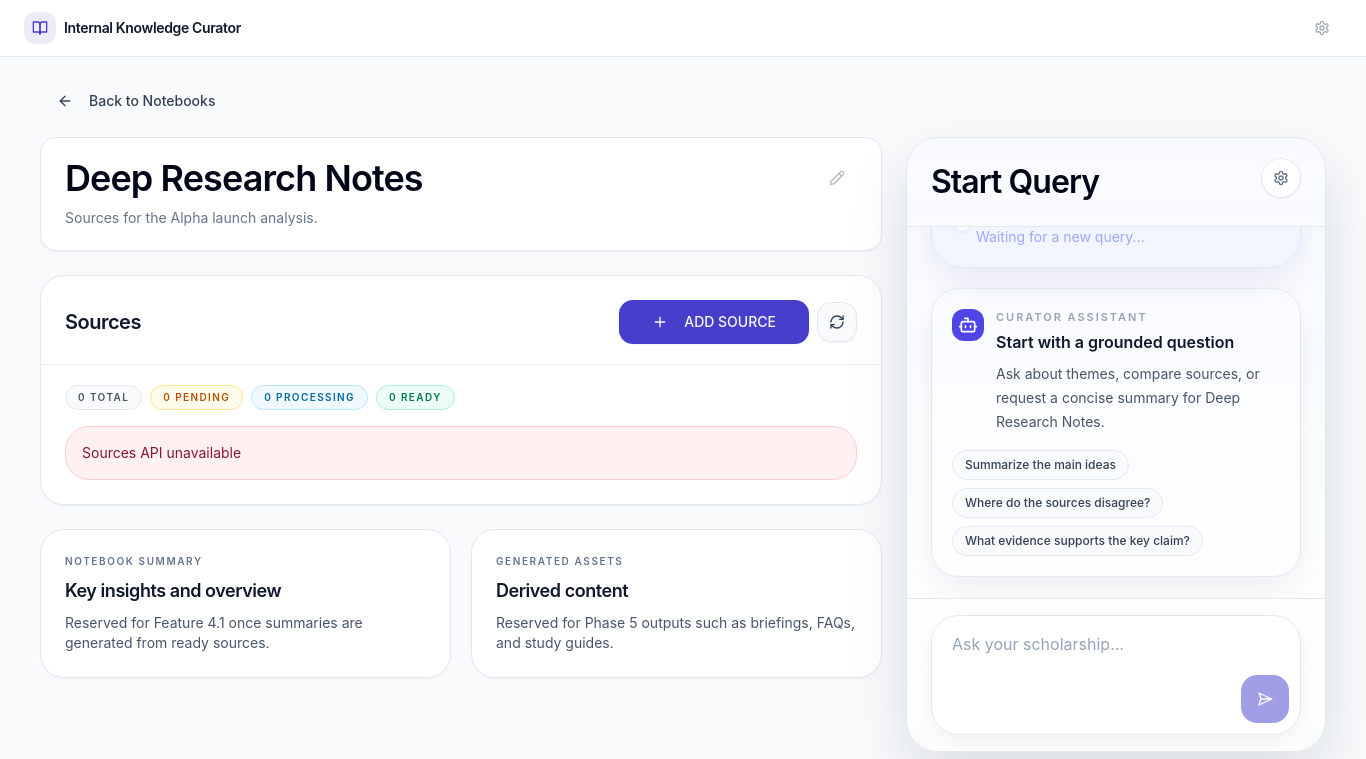
Test: NotebookDetailPage › shows a source loading error and retries in place
This screenshot has width=1366, height=759.
(page scrolled)
Expected: the text "Sources API unavailable" is shown, [65,426,857,480]
Click the button named "Refresh sources".
click(837, 322)  # box [817,302,857,342]
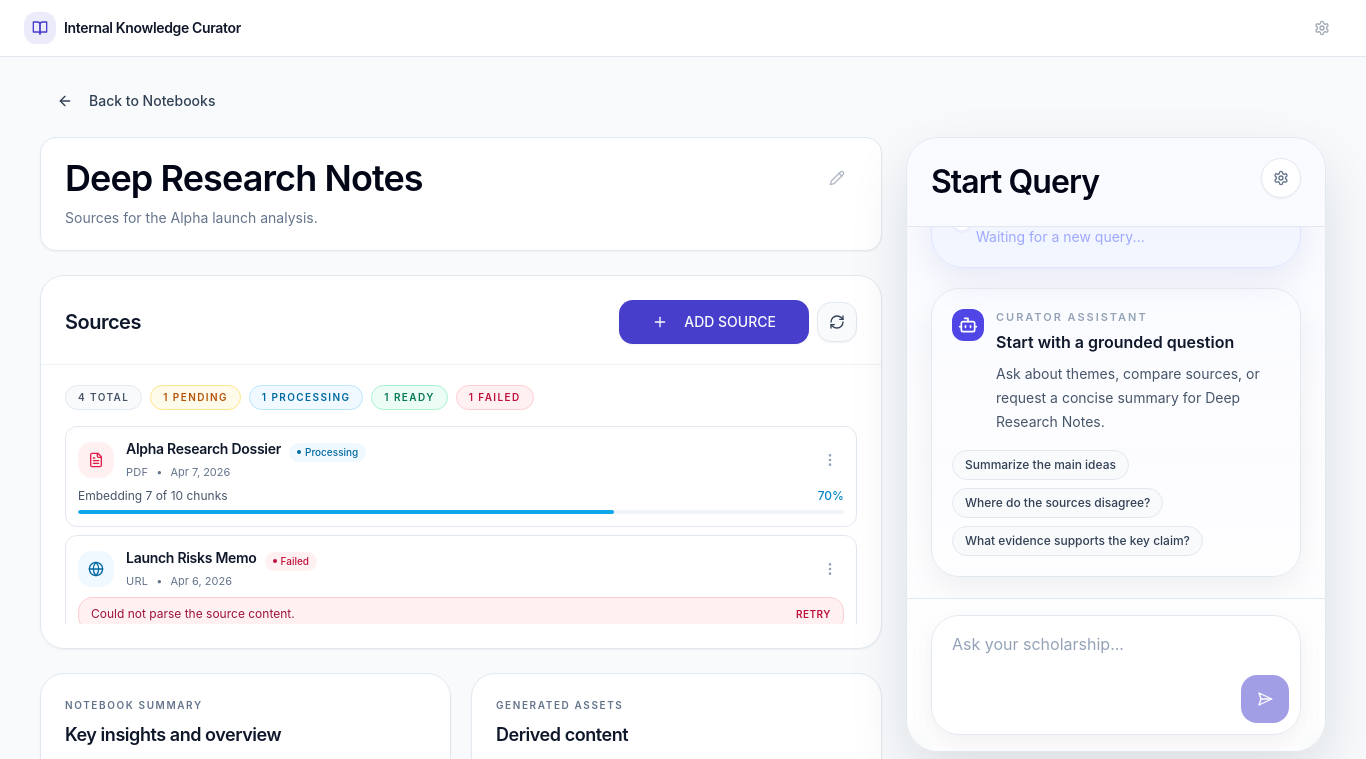
Expected: the heading "Alpha Research Dossier" is shown, [126,439,281,459]
